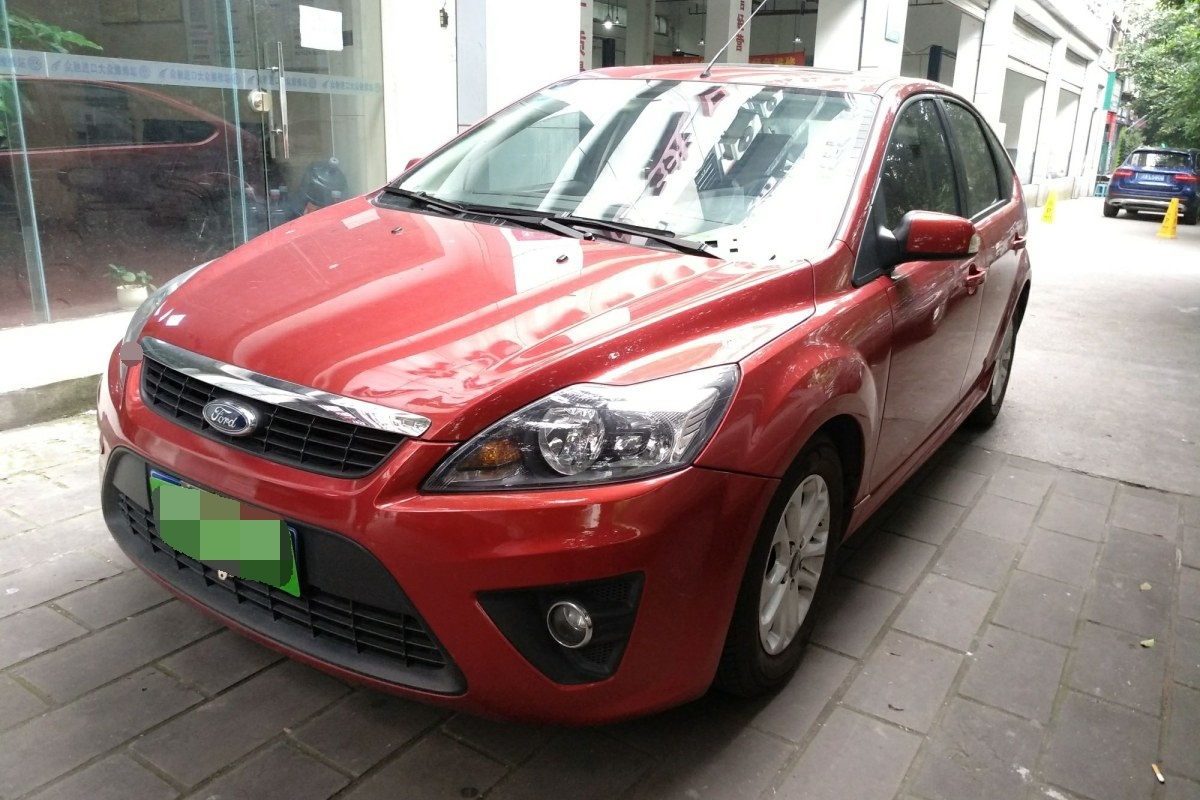family sedan: (113, 62, 1048, 698)
